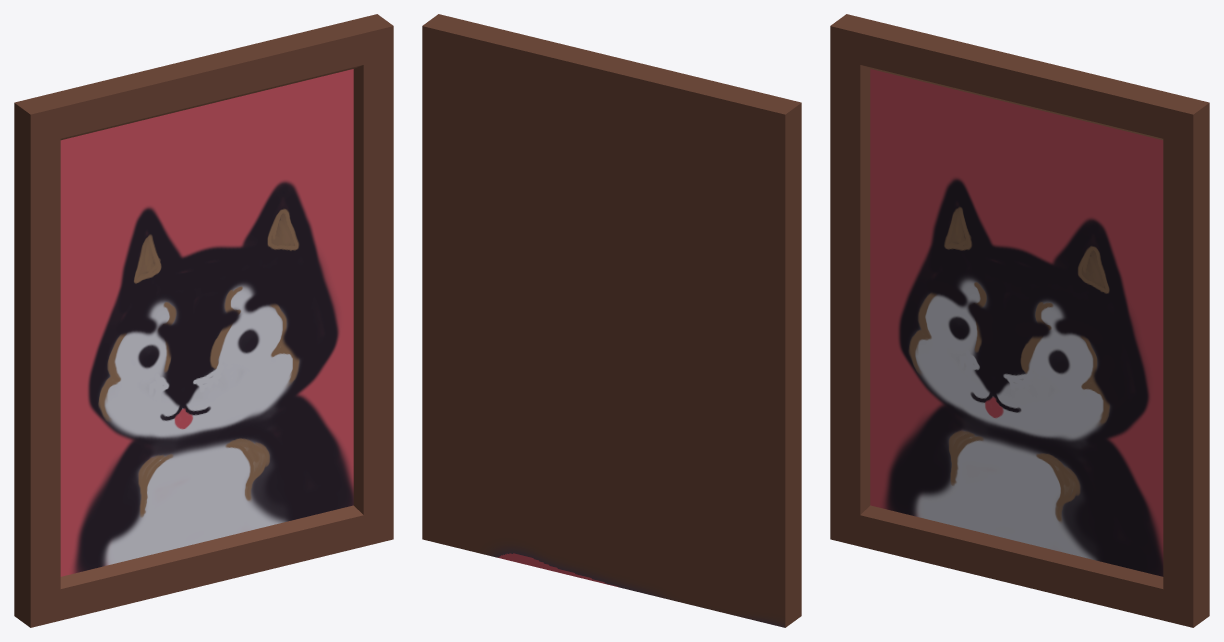
Rendered from painting3.glb.
3 views of the same model, side by side, from view 1: azimuth 30°, elevation 25°; view 2: azimuth 150°, elevation 25°; view 3: azimuth 330°, elevation 25° (orthographic).
Parts seen in each view (by area): view 1: Cube.009; view 2: Cube.009; view 3: Cube.009.
Boxes of the visible parts, left/top/right/bottom form: Cube.009: left=14, top=14, right=393, bottom=627; Cube.009: left=422, top=14, right=801, bottom=627; Cube.009: left=830, top=14, right=1209, bottom=627.
Size of the model in its own units: 2 by 2.7 by 0.1569.
Materials: 1 (1 with a texture image).
